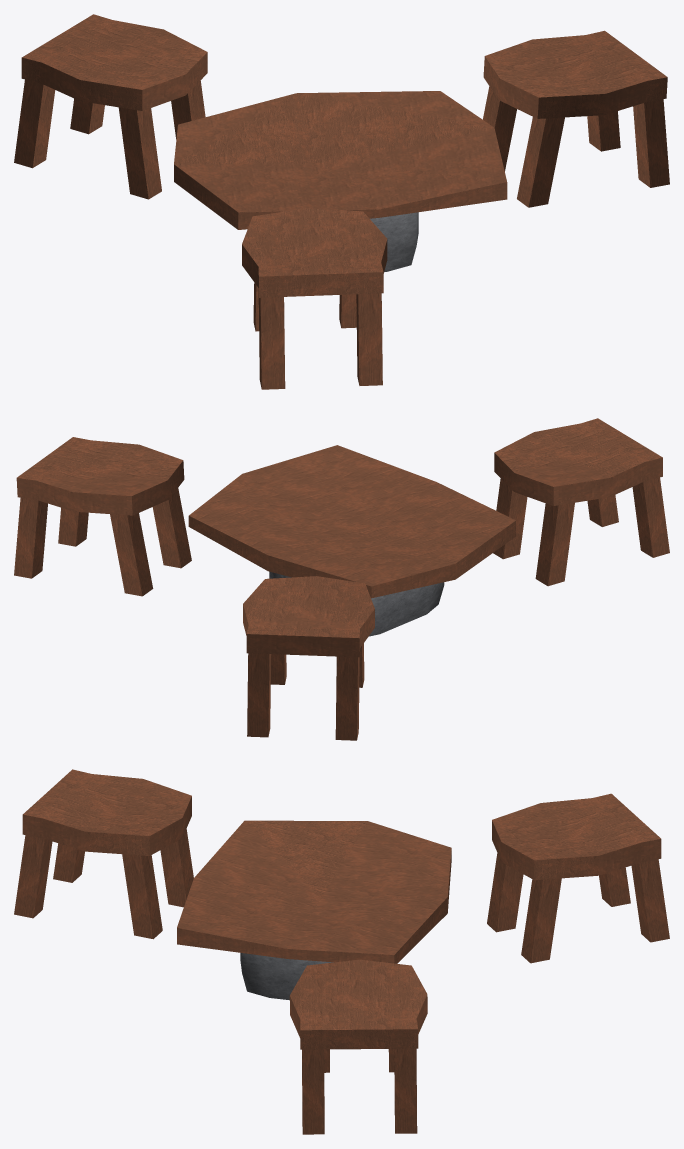
Rendered from masa_sandalye.FBX.
The picture shows the model from 3 angles, top to bottom: view 1: azimuth 30°, elevation 25°; view 2: azimuth 150°, elevation 25°; view 3: azimuth 270°, elevation 25°; orthographic projection. The views are drawn at different scales.
Parts seen in each view (by area): view 1: Box055; view 2: Box055; view 3: Box055.
Part boxes in pixels (x1,y1,x2,y2): Box055: (14,14,669,389); Box055: (14,418,669,740); Box055: (14,769,669,1134).
Size of the model in its own units: 106 by 24.01 by 119.
Materials: 2 (2 with a texture image).
